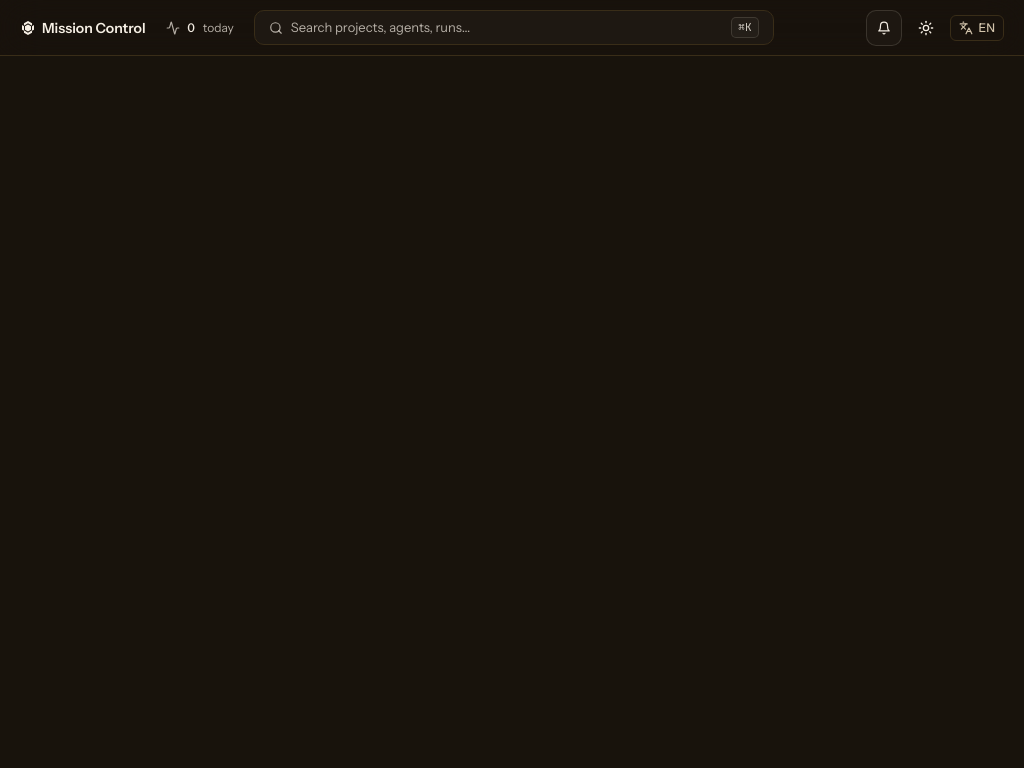
Test: TopBar › shows the empty state when there are no recent runs
The width and height of the screenshot is (1024, 768).
Click the button with test id "topbar-notifications-trigger" at coordinates (884, 28), box left=866, top=10, right=902, bottom=46
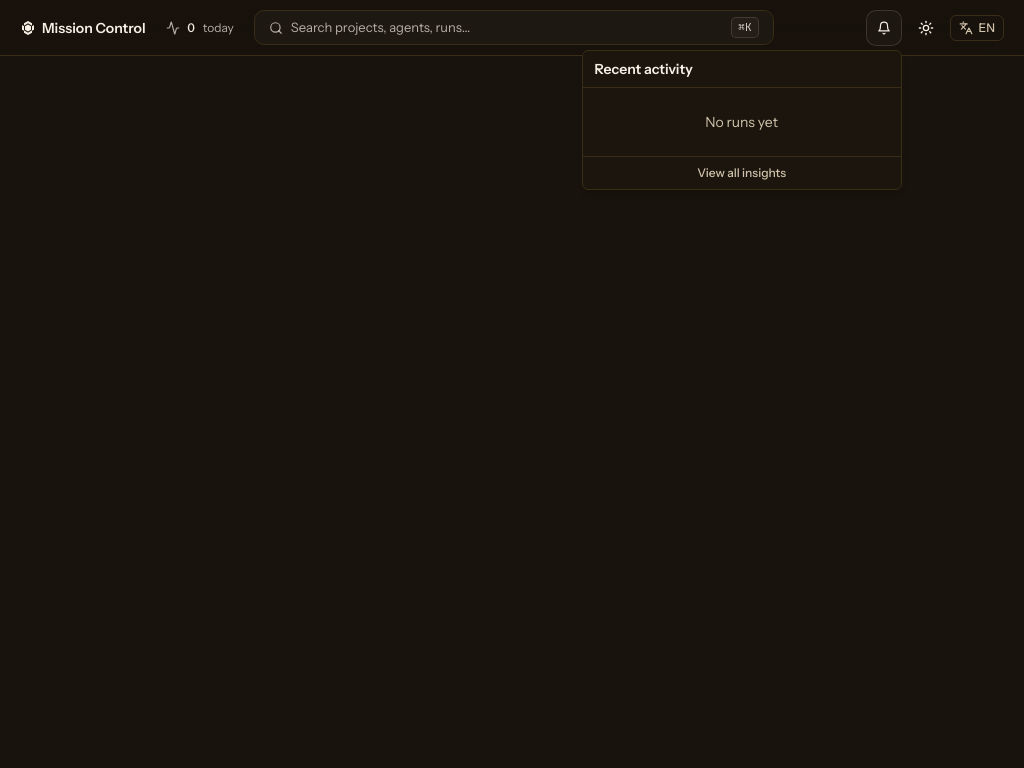
Expected: the text "No runs yet" is shown, left=705, top=112, right=778, bottom=130
